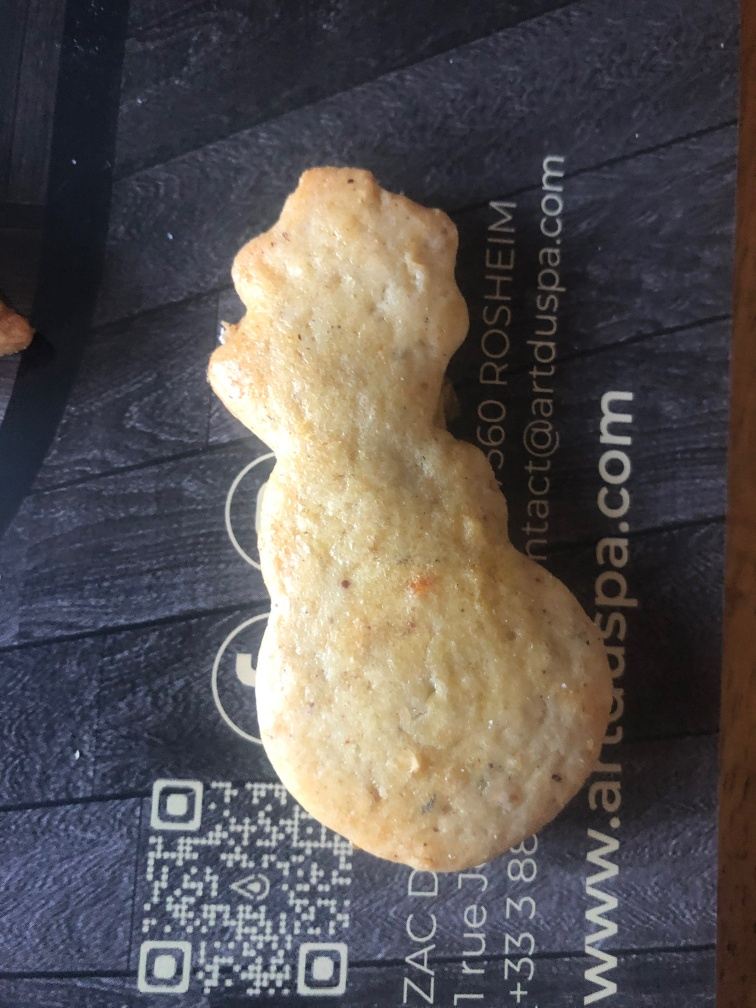snowman: (187, 151, 632, 882)
